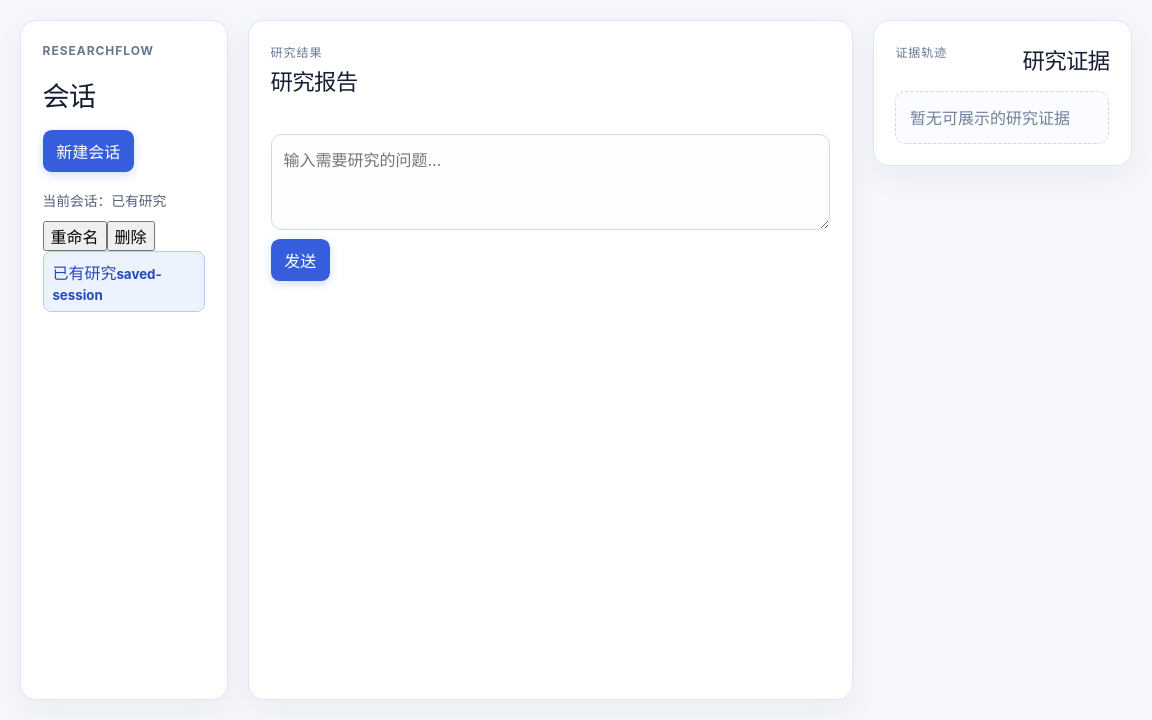
Test case: App › lists sessions and starts a turn from the composer
Expected: the button "已有研究" is shown, [43, 251, 205, 312]
Step 1. Type "tool calling" into the text box named "研究问题" → (550, 182), box [271, 134, 830, 230]
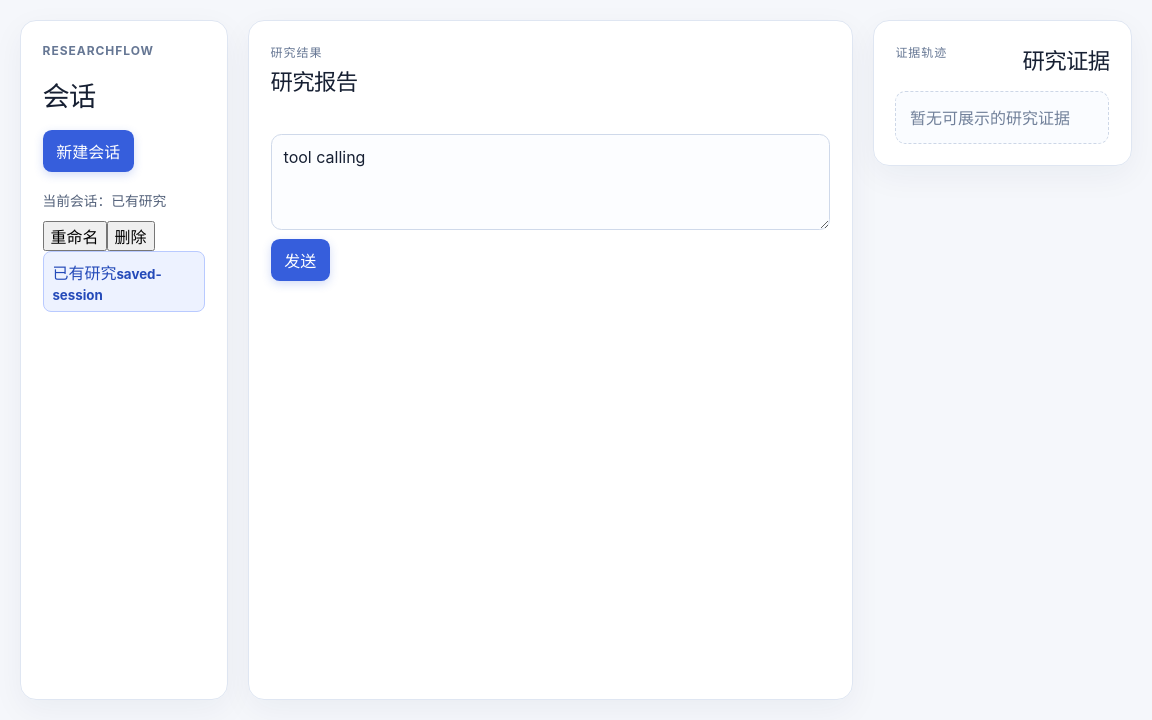
Step 2. Click the button "发送" → (300, 260), box [271, 239, 330, 281]
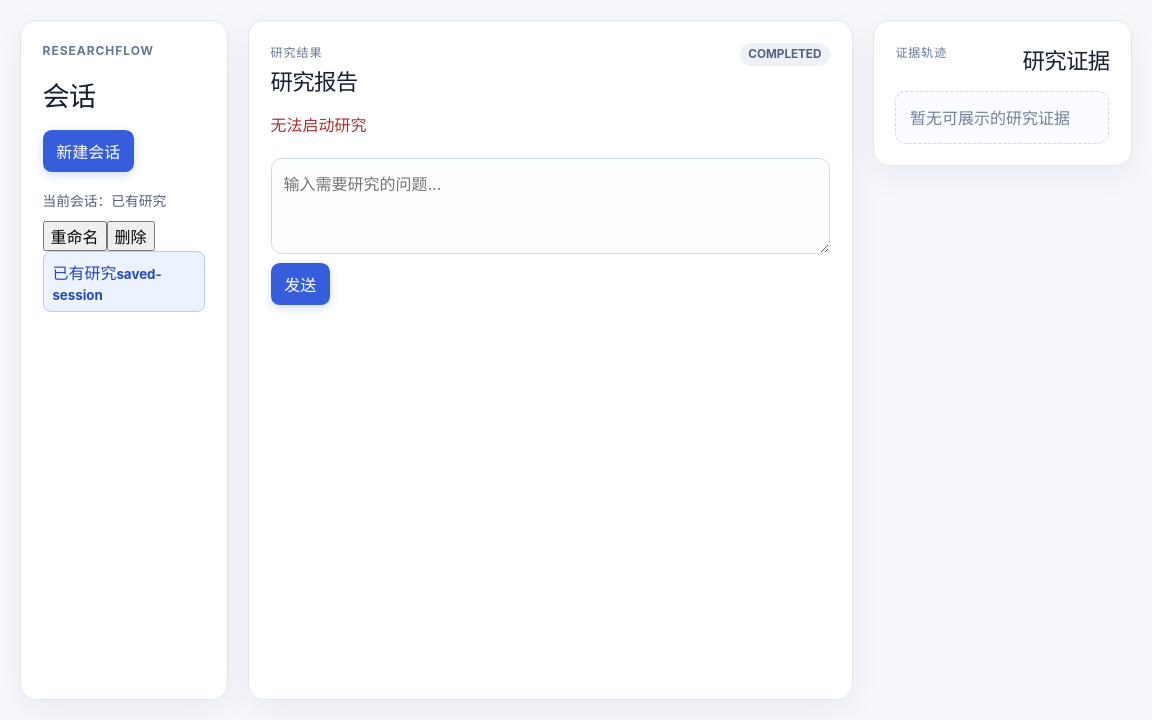
Now the text "completed" is shown, box [740, 43, 830, 66]
